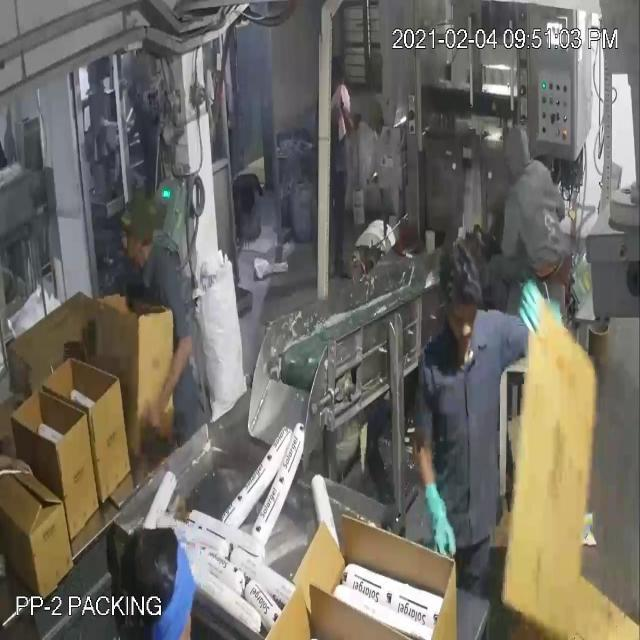No_Gloves: (42, 70, 536, 508)
